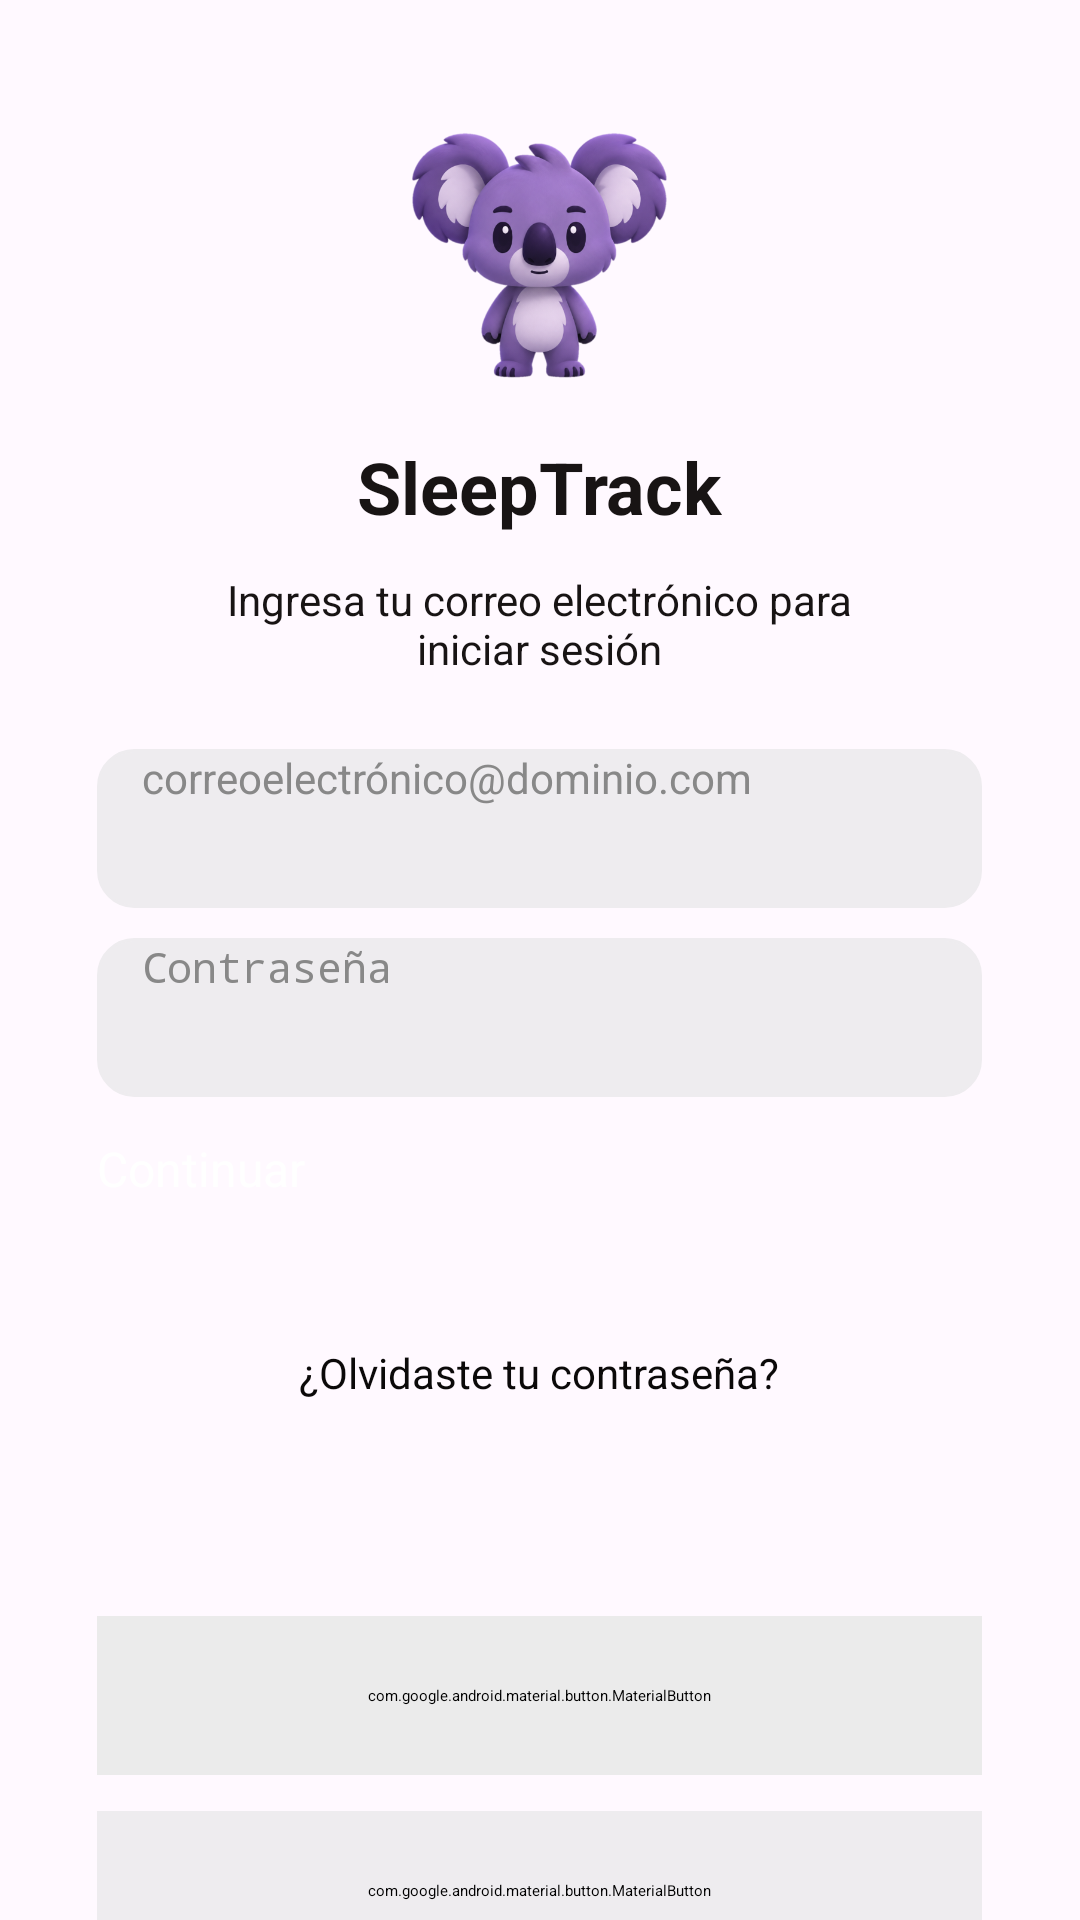

Point at icon controls on the screen. Image size 1080 x 1920, points as (x,y).
koala: (539,255)
